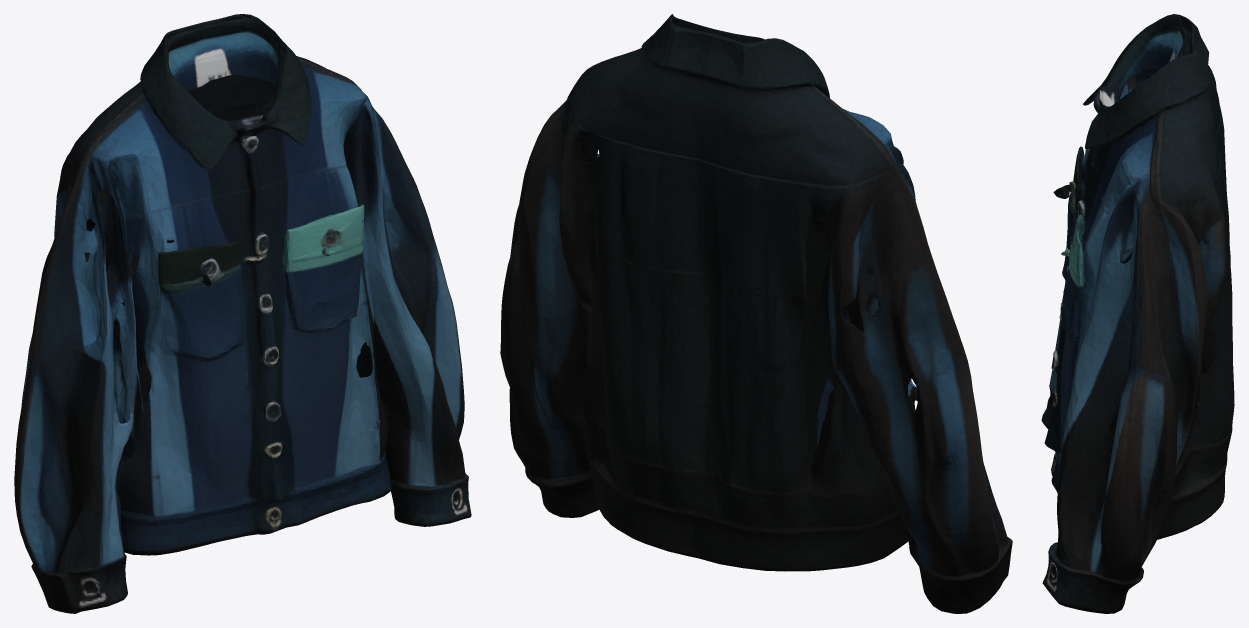
The model's file is Jacket-Ricardo-Andrez_20250301043853.glb.
3 views of the same model, side by side, from view 1: azimuth 30°, elevation 25°; view 2: azimuth 150°, elevation 25°; view 3: azimuth 270°, elevation 25° (orthographic). The views are drawn at different scales.
Visible parts, largest first — view 1: world; view 2: world; view 3: world.
Boxes of the visible parts, box(x1,y1,x2,y2) form: world: box(14, 14, 471, 613); world: box(500, 14, 1012, 613); world: box(1041, 14, 1234, 613).
Size of the model in its own units: 0.896 by 1 by 0.3568.
1 material, 1 textured.
